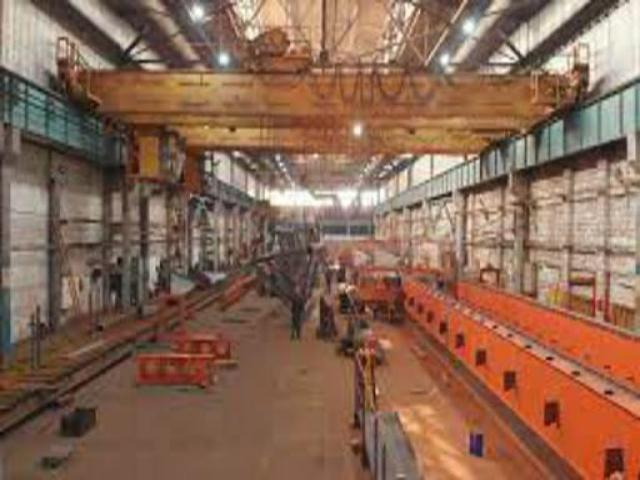conveyor: (410, 269, 640, 447)
